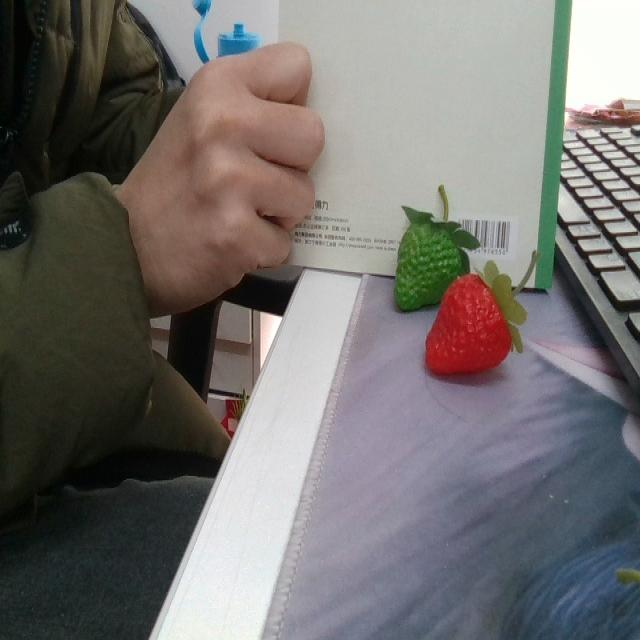immature: (393, 217, 460, 308)
mature: (424, 272, 510, 376)
